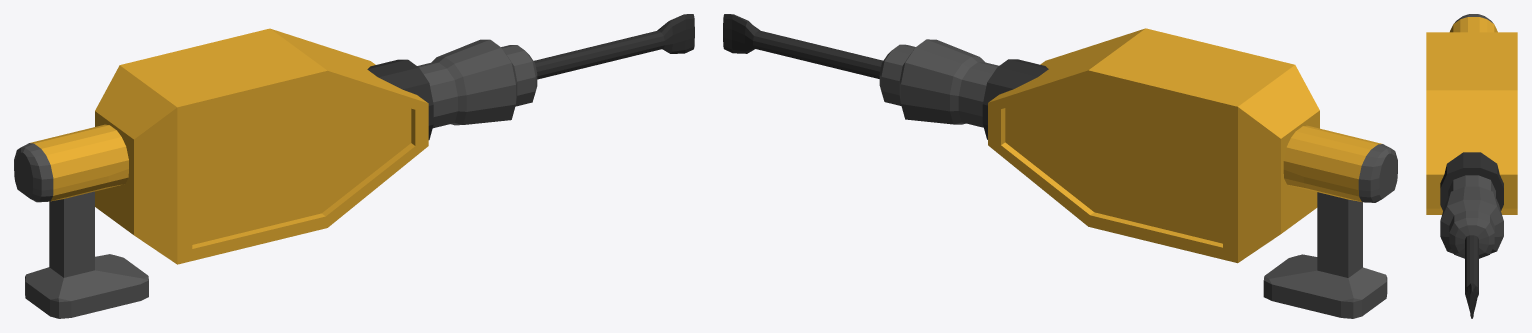
The picture shows the model from 3 angles, left to right: view 1: azimuth 30°, elevation 25°; view 2: azimuth 150°, elevation 25°; view 3: azimuth 270°, elevation 25°; orthographic projection. The views are drawn at different scales.
Visible parts, largest first — view 1: F-37; view 2: F-37; view 3: F-37.
Part boxes in pixels (bbox=[...]): F-37: bbox=[14, 14, 694, 318]; F-37: bbox=[723, 14, 1397, 318]; F-37: bbox=[1426, 14, 1517, 318].
Bounding box in the file's own units: 248 × 69.17 × 37.04.
